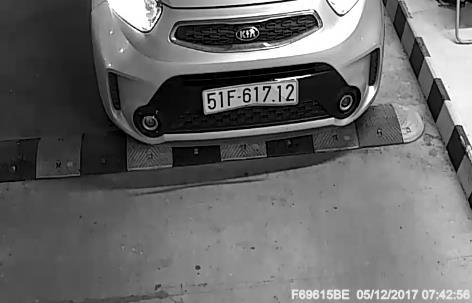License-plate: (195, 76, 310, 118)
